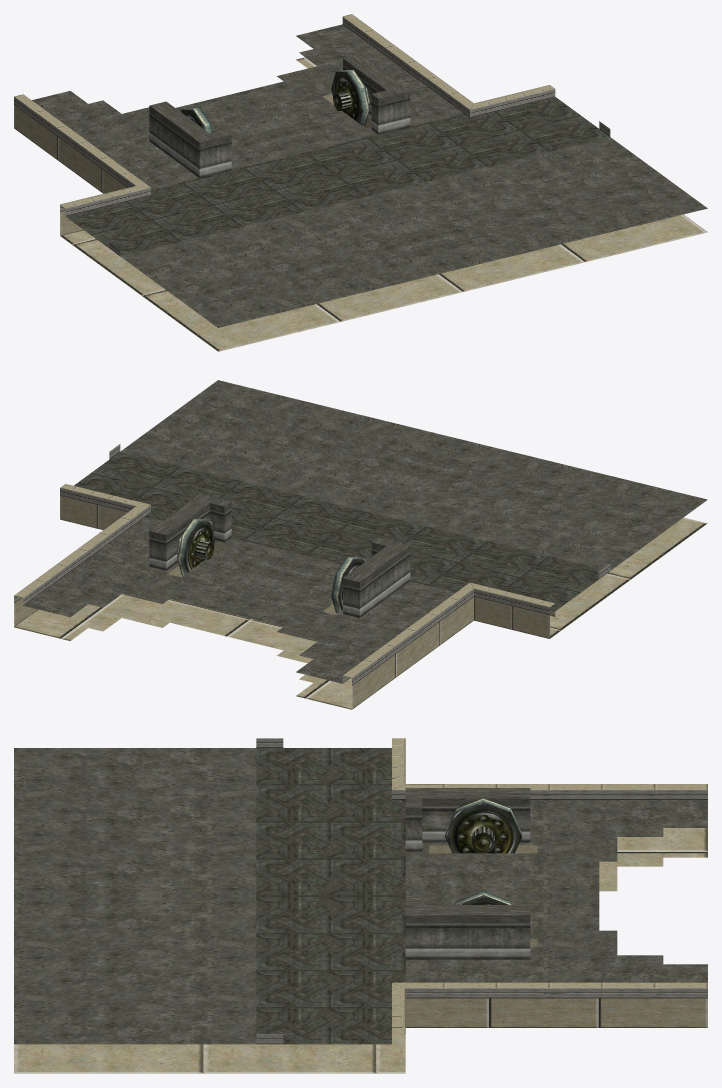
File: DWARF_PALACE_FORGE_STAIRSC01.fbx
3 views of the same model, one above another, from view 1: azimuth 30°, elevation 25°; view 2: azimuth 150°, elevation 25°; view 3: azimuth 270°, elevation 25° (orthographic). The views are drawn at different scales.
Parts seen in each view (by area): view 1: DWARF_PALACE_FORGE_STAIRSC01; view 2: DWARF_PALACE_FORGE_STAIRSC01; view 3: DWARF_PALACE_FORGE_STAIRSC01.
Part boxes in pixels (left/top/right/bottom): DWARF_PALACE_FORGE_STAIRSC01: left=14, top=14, right=707, bottom=351; DWARF_PALACE_FORGE_STAIRSC01: left=14, top=380, right=707, bottom=709; DWARF_PALACE_FORGE_STAIRSC01: left=14, top=738, right=707, bottom=1073.
Size of the model in its own units: 258030 by 32036 by 255439.
9 materials, 9 textured.
